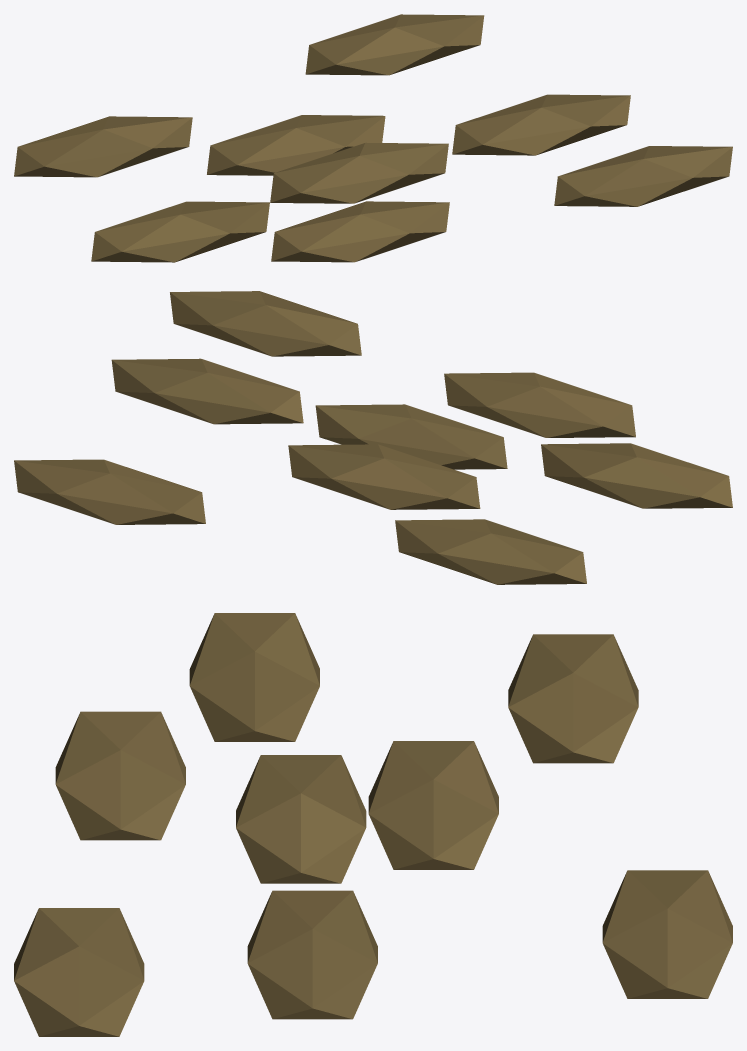
The picture shows the model from 3 angles, top to bottom: view 1: azimuth 30°, elevation 25°; view 2: azimuth 150°, elevation 25°; view 3: azimuth 270°, elevation 25°; orthographic projection. The views are drawn at different scales.
Parts seen in each view (by area): view 1: forest-leaves; view 2: forest-leaves; view 3: forest-leaves.
Part boxes in pixels (x1,y1,x2,y2): forest-leaves: [14, 14, 732, 262]; forest-leaves: [14, 291, 732, 584]; forest-leaves: [14, 613, 732, 1036].
Size of the model in its own units: 0.525 by 0.03 by 0.3751.
